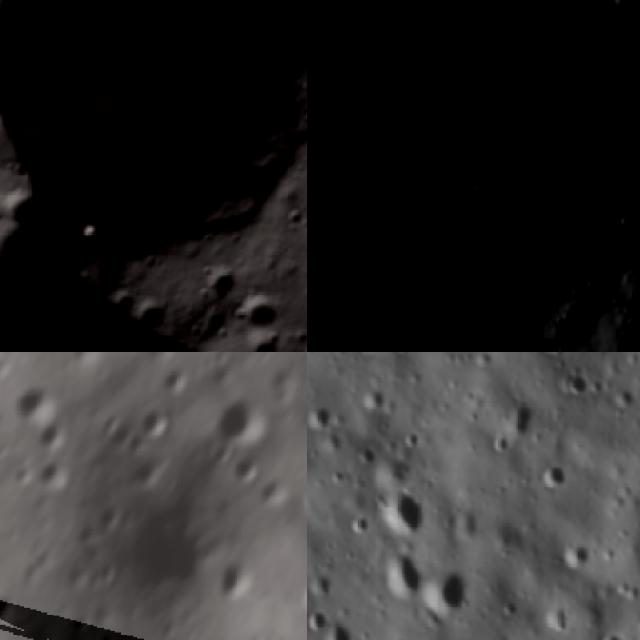crater: (0, 0, 307, 352), (91, 484, 228, 629), (307, 0, 439, 120), (543, 65, 615, 140), (208, 387, 277, 455), (226, 278, 294, 344), (370, 470, 428, 544), (6, 365, 67, 432), (370, 546, 428, 598), (126, 292, 180, 346), (188, 324, 288, 352), (192, 261, 244, 310), (210, 555, 258, 607), (150, 355, 200, 401), (424, 570, 468, 619), (132, 400, 176, 448), (250, 469, 297, 513), (558, 359, 603, 402), (33, 453, 75, 497), (34, 412, 74, 458), (223, 448, 267, 488), (538, 452, 574, 491), (498, 135, 531, 167), (0, 585, 24, 628), (614, 203, 640, 237), (610, 0, 640, 22), (595, 624, 632, 640)
